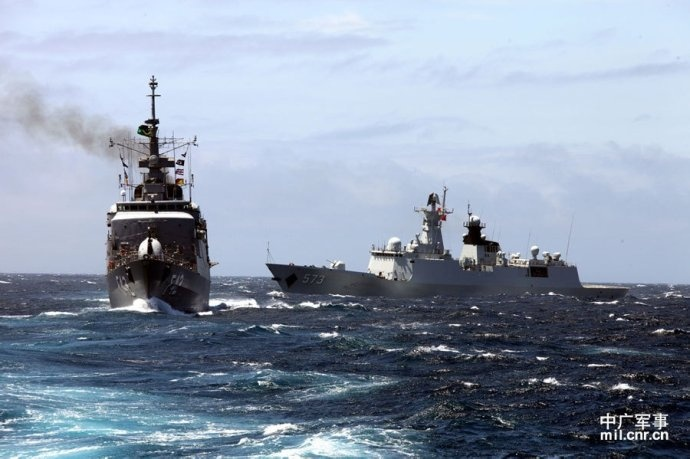warship: (260, 187, 635, 302), (101, 76, 224, 316)
